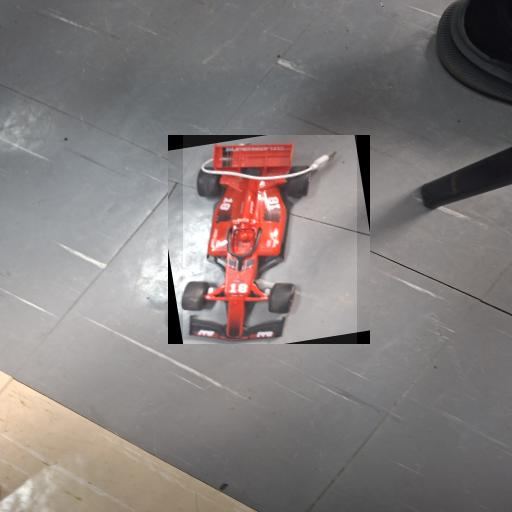carro: (184, 135, 357, 344)
